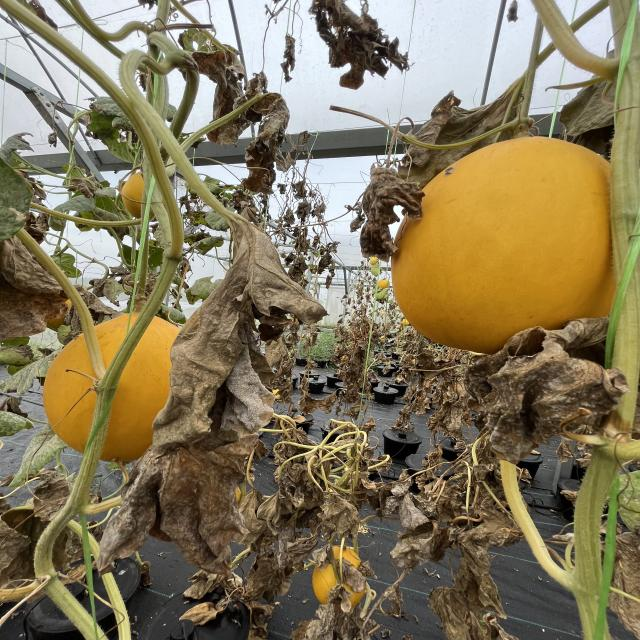bacterial wilt: (142, 252, 304, 558), (457, 311, 629, 468), (0, 153, 71, 350), (305, 0, 420, 88), (408, 87, 509, 175), (352, 147, 422, 263), (543, 68, 624, 146), (252, 511, 326, 589), (416, 569, 493, 640), (391, 462, 444, 556), (257, 104, 304, 197), (0, 502, 48, 577), (189, 586, 268, 628), (276, 447, 332, 503), (460, 509, 518, 562), (336, 578, 373, 633), (288, 199, 310, 221)
